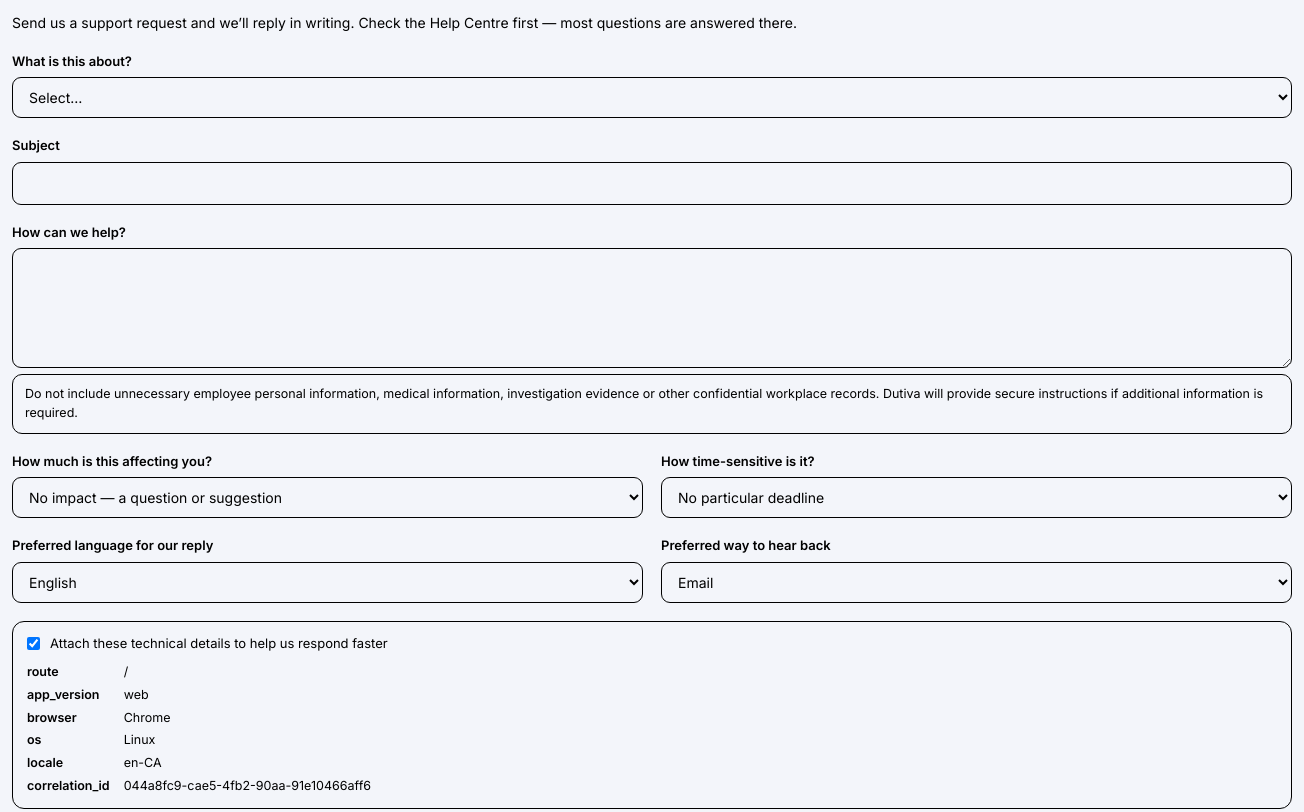
Test case: SupportRequestForm › reveals the account-access question for that category
Select "Account access" in the dropdown labelled "What is this about?" at (652,98), box [12, 77, 1292, 118]
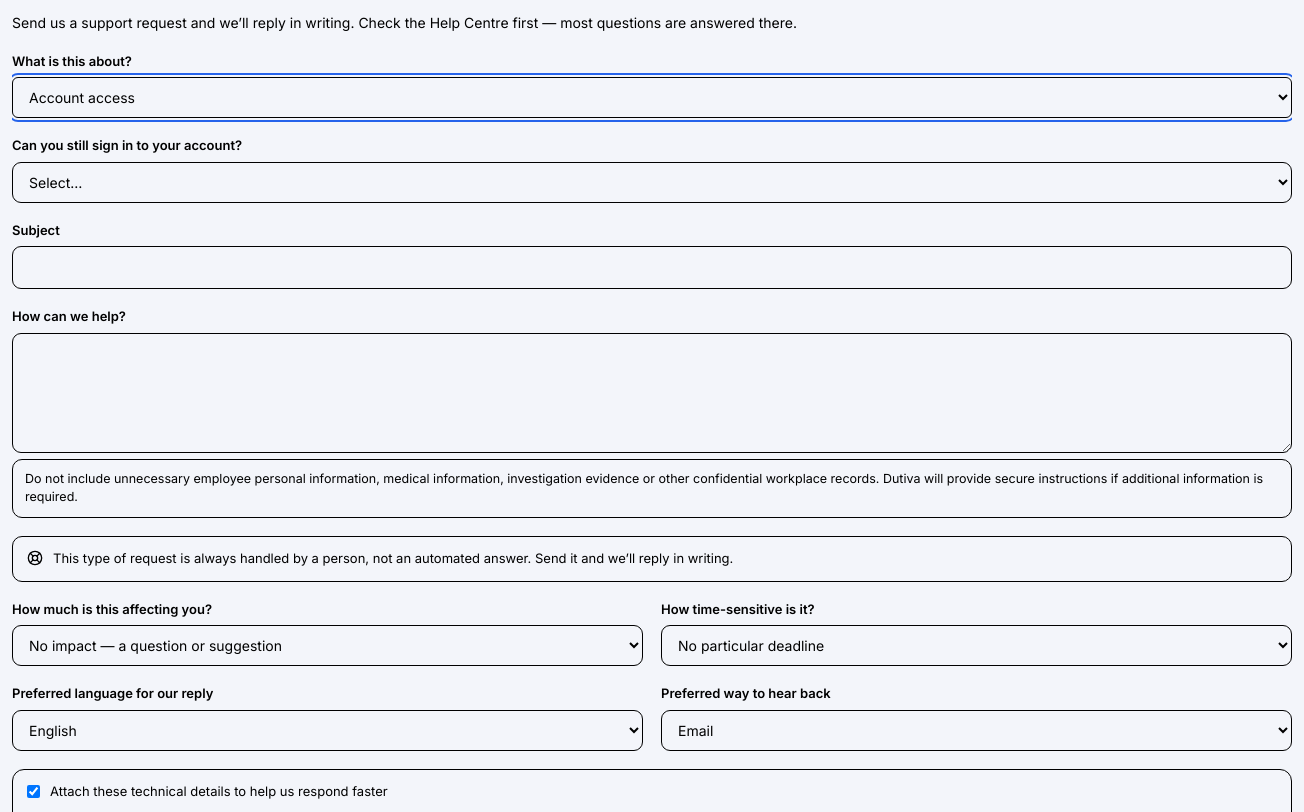
Expected: the text "Can you still sign in to your account?" is shown, [12, 137, 242, 153]
